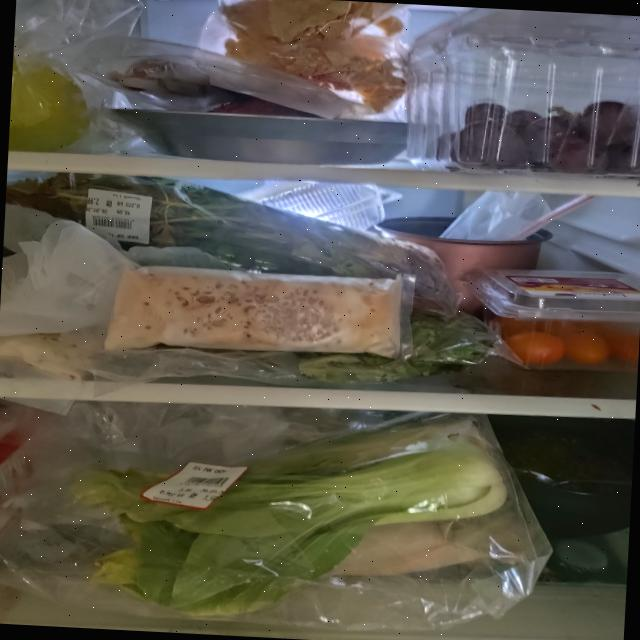grape: (421, 86, 640, 183)
leafy_greens: (54, 171, 464, 320)
pakchoy: (63, 396, 510, 634)
tempeh: (109, 260, 405, 357)
